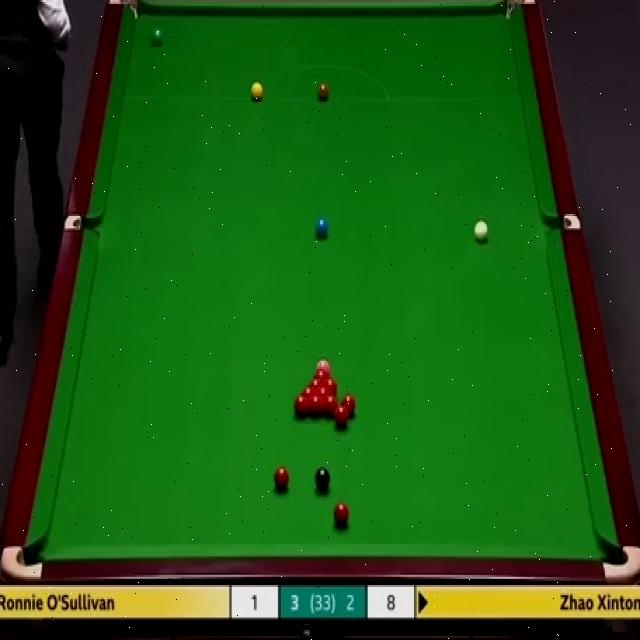black-ball: (315, 467, 331, 493)
blue-ball: (315, 218, 329, 238)
brown-ball: (316, 82, 329, 101)
green-ball: (151, 28, 163, 47)
pink-ball: (315, 357, 333, 370)
red-ball: (272, 465, 290, 491), (335, 501, 350, 528), (324, 394, 338, 418), (293, 394, 308, 416), (334, 406, 348, 429), (341, 394, 355, 417), (308, 394, 322, 415), (324, 377, 338, 393), (312, 366, 329, 377), (308, 377, 323, 387), (315, 386, 331, 395), (301, 386, 315, 396)
white-ball: (474, 218, 491, 246)
yellow-ball: (250, 80, 263, 100)
